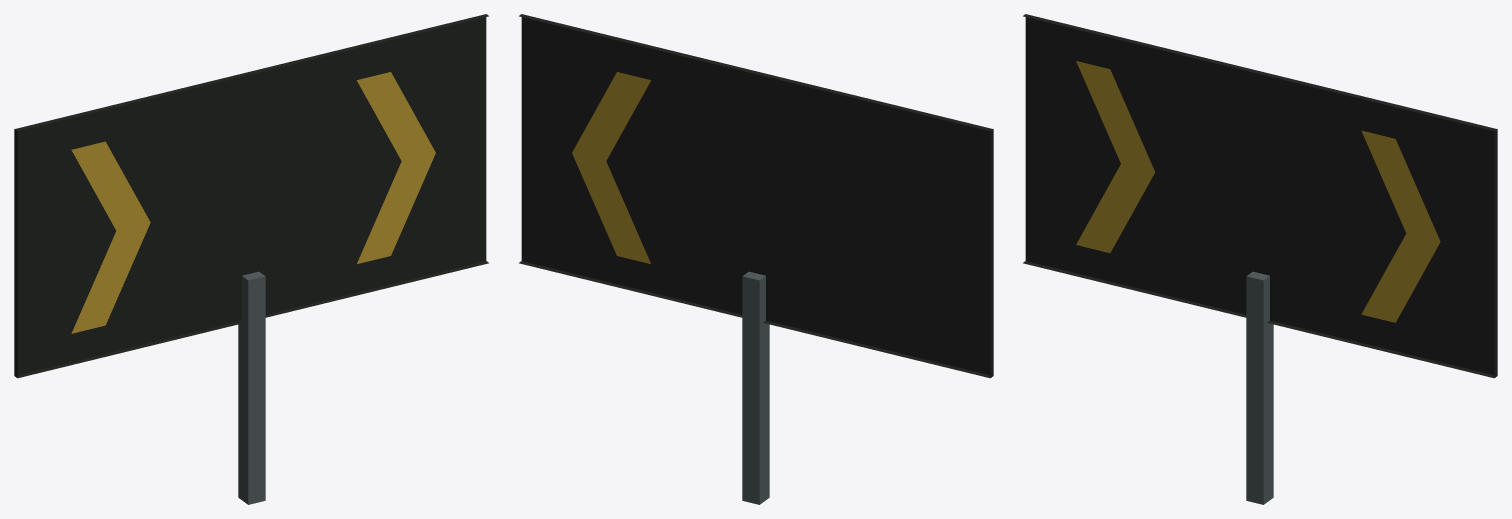
The model's file is road_chevron.glb.
The picture shows the model from 3 angles, left to right: view 1: azimuth 30°, elevation 25°; view 2: azimuth 150°, elevation 25°; view 3: azimuth 330°, elevation 25°; orthographic projection.
Visible parts, largest first — view 1: road_chevron; view 2: road_chevron; view 3: road_chevron.
Part boxes in pixels (left/top/right/bottom): road_chevron: left=14, top=14, right=488, bottom=504; road_chevron: left=519, top=14, right=993, bottom=504; road_chevron: left=1023, top=14, right=1497, bottom=504.
Bounding box in the file's own units: 2.2 × 1.9 × 0.08.
